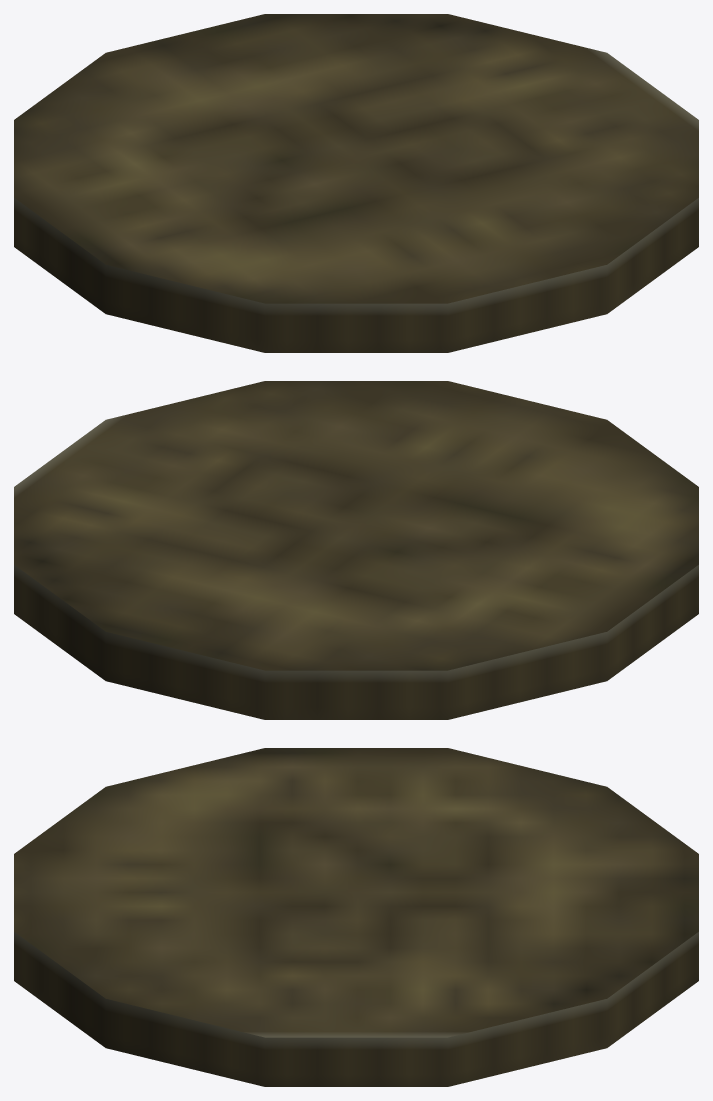
The model's file is coin_mp_1.fbx.
The picture shows the model from 3 angles, top to bottom: view 1: azimuth 30°, elevation 25°; view 2: azimuth 150°, elevation 25°; view 3: azimuth 270°, elevation 25°; orthographic projection.
Visible parts, largest first — view 1: coin_mp_1; view 2: coin_mp_1; view 3: coin_mp_1.
Part boxes in pixels (x1,y1,x2,y2): coin_mp_1: (14, 14, 698, 352); coin_mp_1: (14, 381, 698, 719); coin_mp_1: (14, 748, 698, 1086).
Bounding box in the file's own units: 0.0377 × 0.003 × 0.0377.
1 material, 1 textured.
